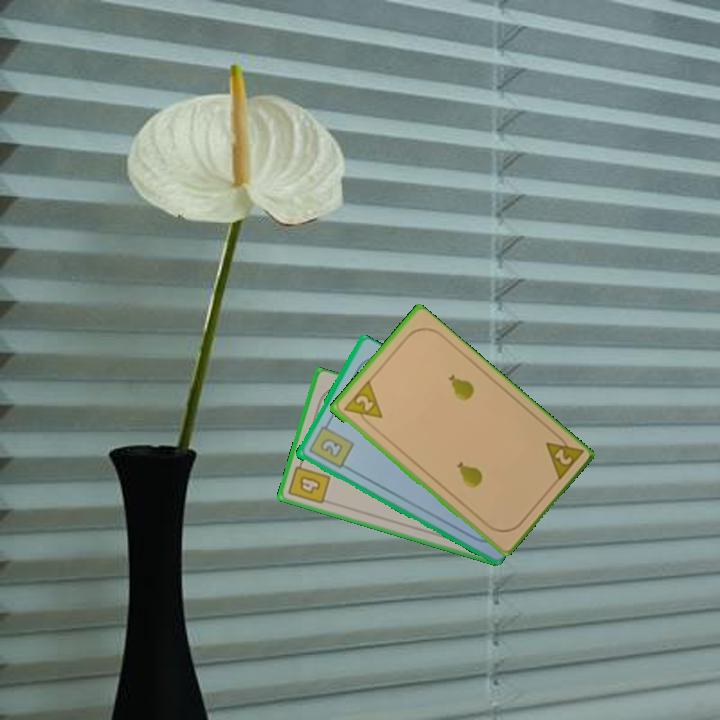2b: (305, 418, 356, 471)
2p: (541, 428, 585, 485), (338, 378, 385, 429)
4b: (285, 456, 333, 507)
